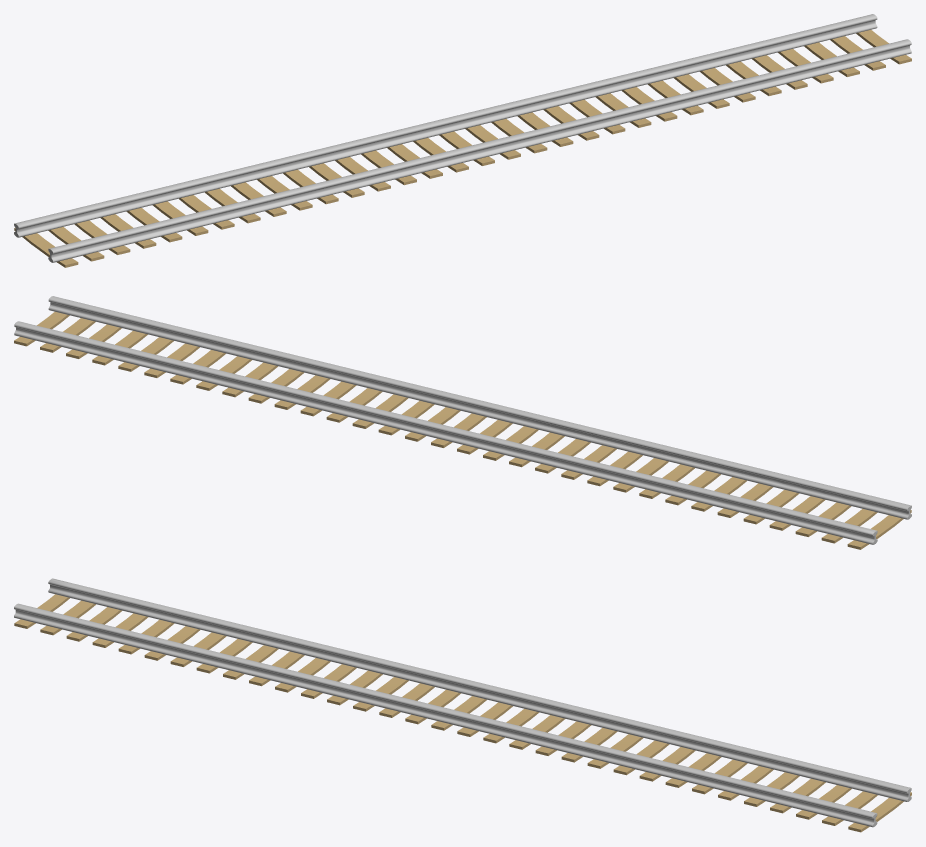
File: Rail Straight.fbx
3 renders of one model, top to bottom at view 1: azimuth 30°, elevation 25°; view 2: azimuth 150°, elevation 25°; view 3: azimuth 330°, elevation 25°, orthographic.
Parts seen in each view (by area): view 1: Rail_Straight; view 2: Rail_Straight; view 3: Rail_Straight.
Part boxes in pixels (left/top/right/bottom): Rail_Straight: left=14, top=14, right=911, bottom=267; Rail_Straight: left=14, top=296, right=911, bottom=549; Rail_Straight: left=14, top=578, right=911, bottom=832.
Size of the model in its own units: 2307 by 39.27 by 237.
